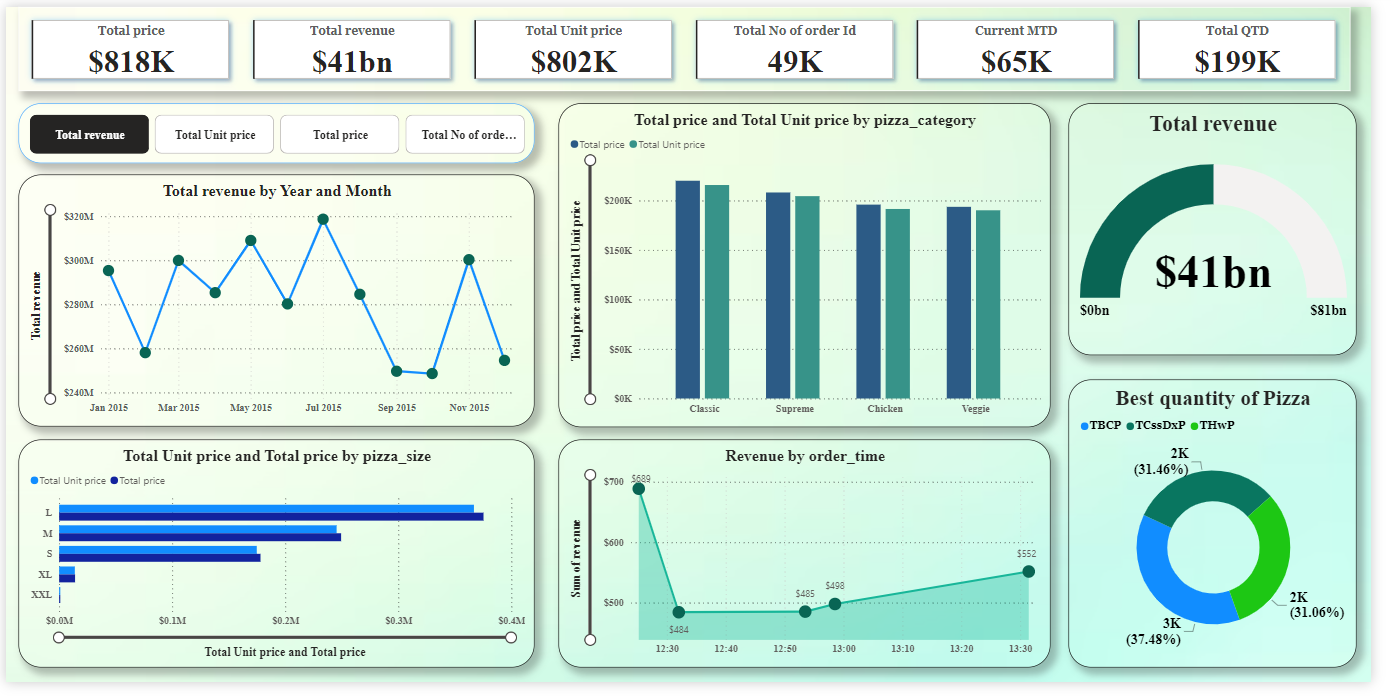

The page's visual inventory and layout, read from the dashboard file:
{"tool":"powerbi","page":{"name":"visualization","canvas":[1820,900],"ordinal":1},"visuals":[{"type":"cardVisual","fields":{"Data":["_measure_.Total price","_measure_.Total revenue","_measure_.Total Unit price","_measure_.Total No of order Id","_measure_.Current MTD","_measure_.Total QTD"]},"box":[16,0,1776,112],"z":0},{"type":"lineChart","fields":{"Y":["_measure_.Total revenue"],"Category":["Pizza_sales_dataset.Start of Month.Variation.Date Hierarchy.Year","Pizza_sales_dataset.Start of Month.Variation.Date Hierarchy.Month"]},"box":[16,224,688,336],"z":1000},{"type":"advancedSlicerVisual","title":"Parameter","fields":{"Values":["Measure .Measure "]},"box":[16,128,688,80],"z":2000},{"type":"clusteredColumnChart","fields":{"Category":["Pizza_sales_dataset.pizza_category"],"Y":["_measure_.Total price","_measure_.Total Unit price"]},"box":[736,128,656,432],"z":3000},{"type":"clusteredBarChart","fields":{"Category":["Pizza_sales_dataset.pizza_size"],"Y":["_measure_.Total Unit price","_measure_.Total price"]},"box":[16,576,688,304],"z":4000},{"type":"gauge","fields":{"Y":["_measure_.Total revenue"]},"box":[1416,128,384,336],"z":5000},{"type":"donutChart","title":"Best quantity of Pizza","fields":{"Category":["Pizza_sales_dataset.Pizza_short_name"],"Y":["Sum(Pizza_sales_dataset.quantity)"]},"box":[1416,496,384,384],"z":6000},{"type":"lineChart","title":" Revenue by order_time","fields":{"Category":["Pizza_sales_dataset.order_time"],"Y":["Sum(Pizza_sales_dataset.revenue)"]},"box":[736,576,656,304],"z":7000}]}

Visuals, with their boxes in screenshot pixels (x1, y1, x2, y2), scaled from the page's 1820x900 canvas onto the 1391x696 screenshot:
cardVisual - _measure_.Total price x _measure_.Total revenue: <region>12, 0, 1370, 87</region>
lineChart - _measure_.Total revenue x Pizza_sales_dataset.Start of Month.Variation.Date Hierarchy.Year: <region>12, 173, 538, 433</region>
"Parameter" advancedSlicerVisual: <region>12, 99, 538, 161</region>
clusteredColumnChart - Pizza_sales_dataset.pizza_category x _measure_.Total price: <region>563, 99, 1064, 433</region>
clusteredBarChart - Pizza_sales_dataset.pizza_size x _measure_.Total Unit price: <region>12, 445, 538, 681</region>
gauge - _measure_.Total revenue: <region>1082, 99, 1376, 359</region>
"Best quantity of Pizza" donutChart: <region>1082, 384, 1376, 681</region>
" Revenue by order_time" lineChart: <region>563, 445, 1064, 681</region>
